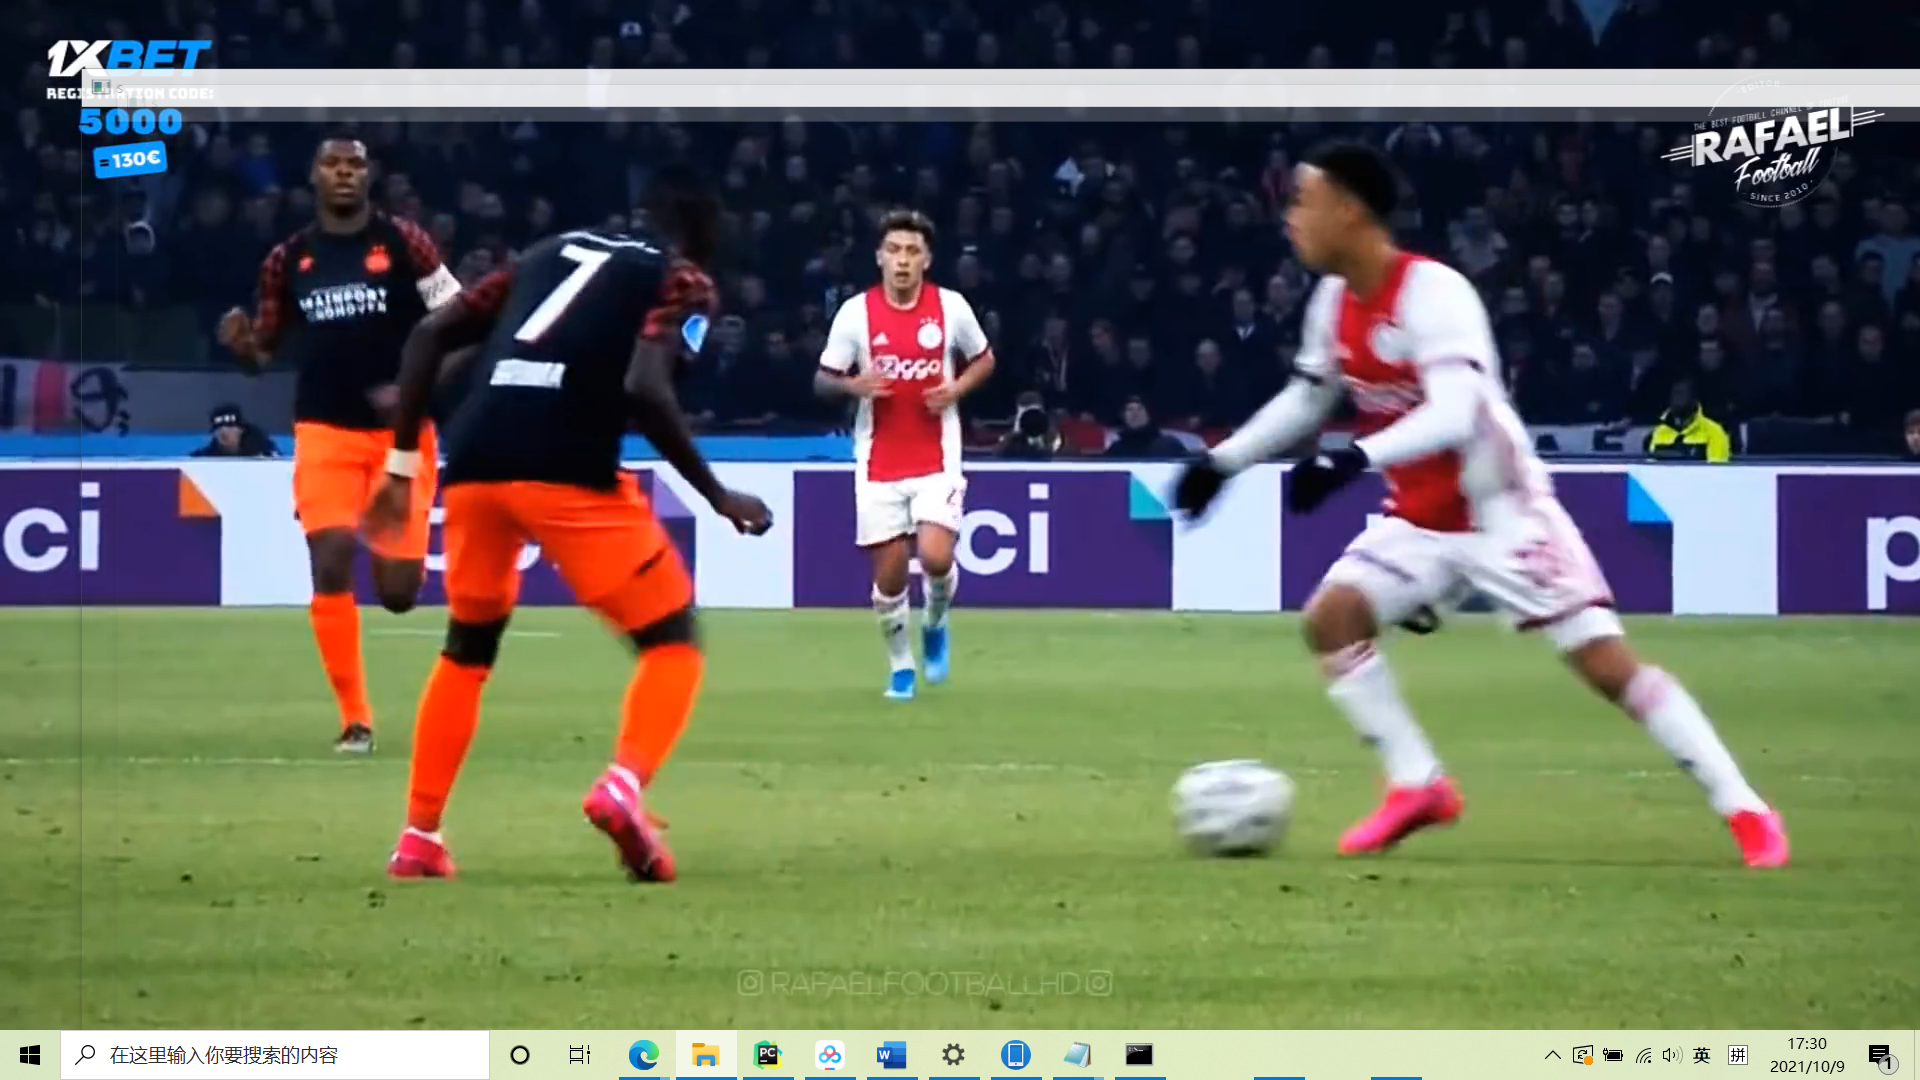ft: (1168, 756, 1296, 869)
